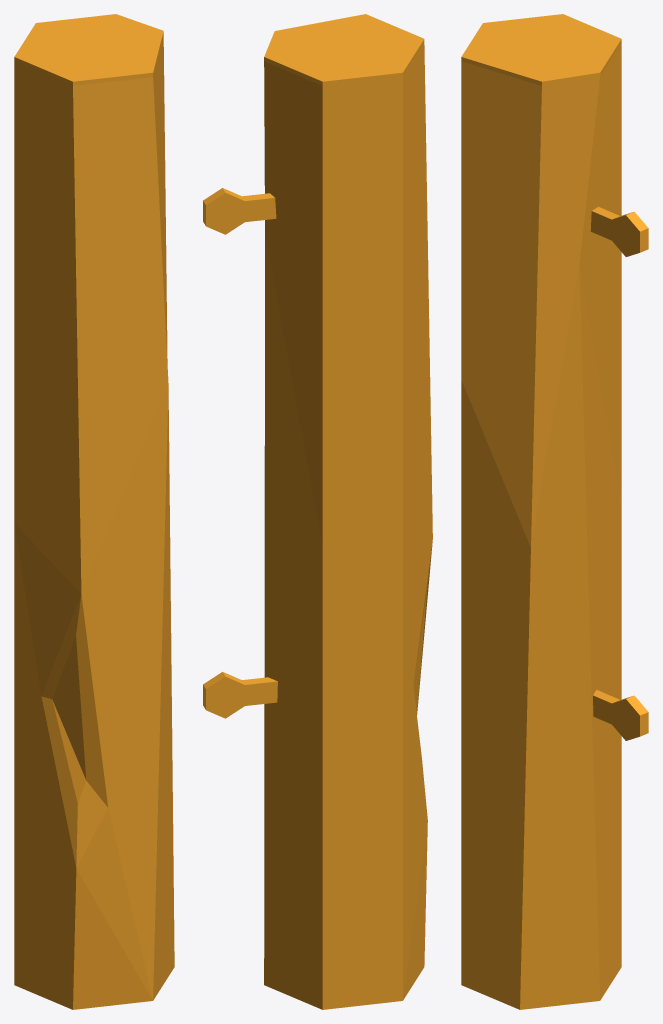
Rendered from SM_Fence_Electric_Pole_A.fbx.
3 views of the same model, side by side, from view 1: azimuth 30°, elevation 25°; view 2: azimuth 150°, elevation 25°; view 3: azimuth 270°, elevation 25° (orthographic).
Parts seen in each view (by area): view 1: fence-electric-pole-a; view 2: fence-electric-pole-a; view 3: fence-electric-pole-a.
Part boxes in pixels (bbox=[...]): fence-electric-pole-a: bbox=[14, 14, 174, 1009]; fence-electric-pole-a: bbox=[203, 14, 432, 1009]; fence-electric-pole-a: bbox=[461, 14, 648, 1009].
Bounding box in the file's own units: 0.2193 × 1.21 × 0.2204.
